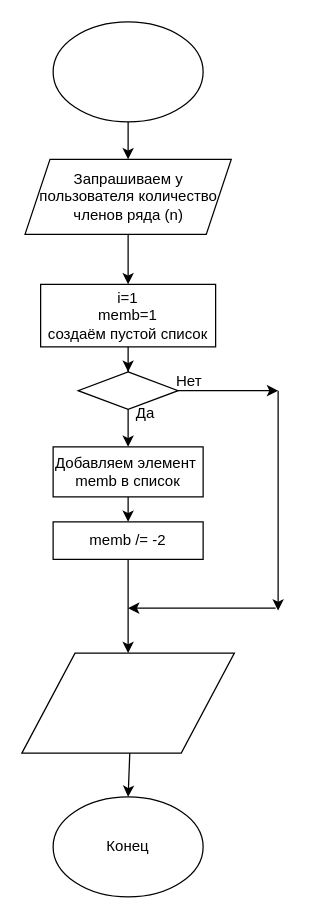
Some shapes in this 310 by 919 pixel diagram are drawn without their labels. The centre of each missing label's shape, as x and y in pixels:
i<n+1?: the point at 127,390
Выводим сумму элементов списка: the point at 127,702
Начало: the point at 127,71
